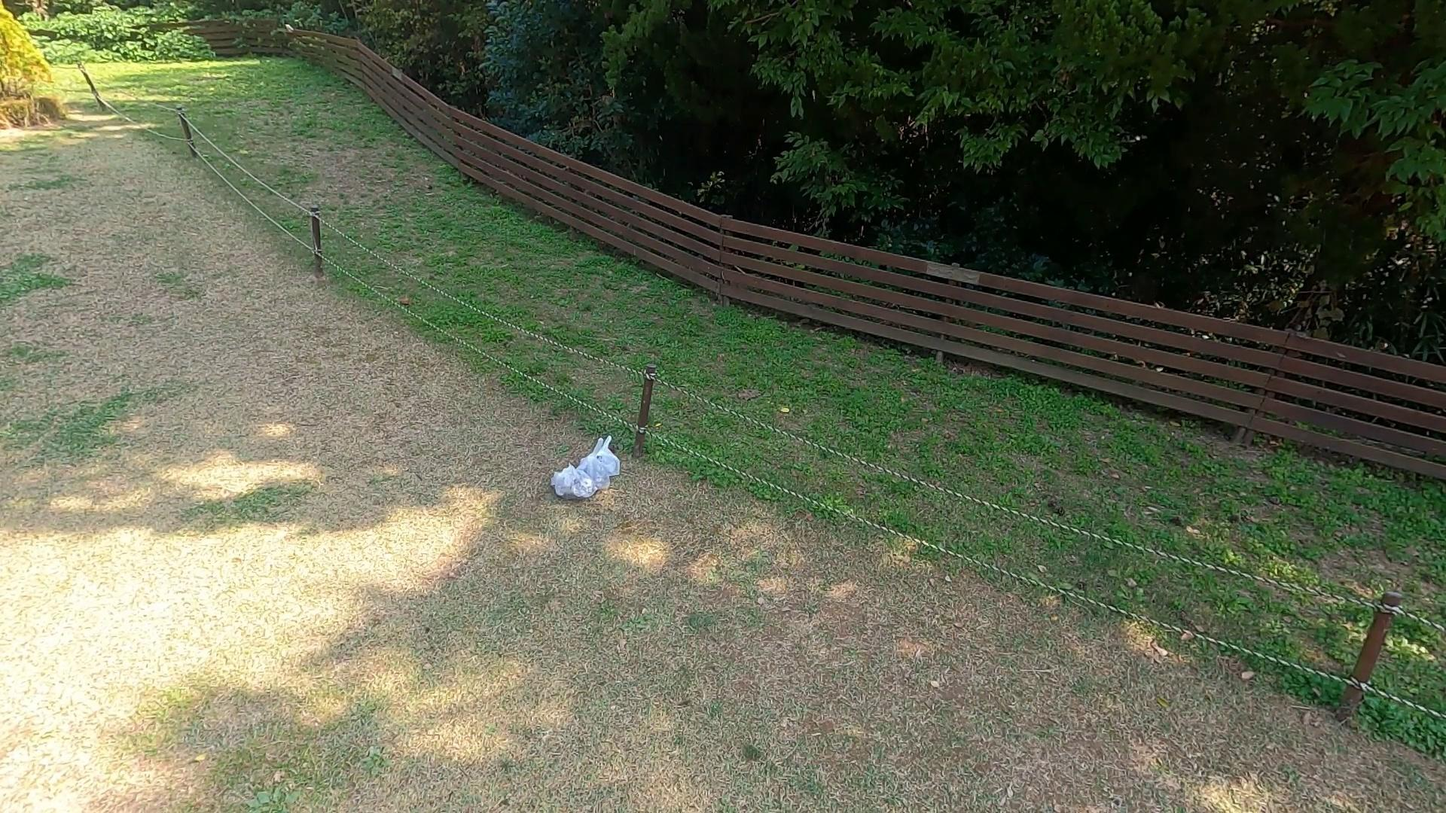trash: (582, 434, 629, 479), (567, 451, 612, 495), (552, 462, 595, 500)
